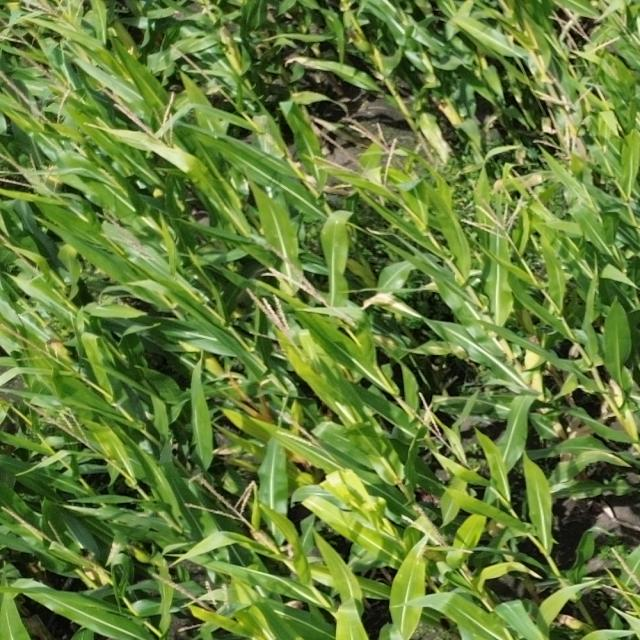southern-leaf-blight: (267, 206, 360, 272)
